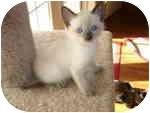siamese: (60, 1, 110, 53)
